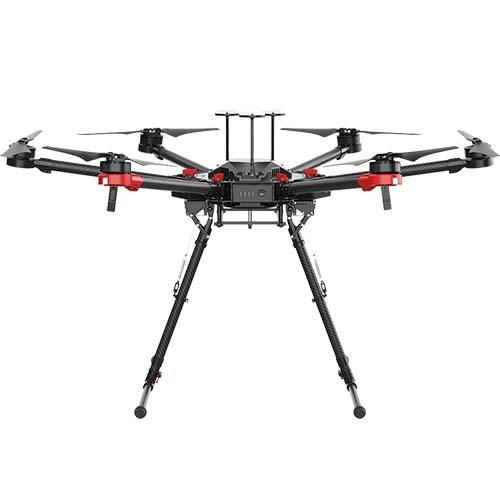drone: (1, 105, 500, 254)
